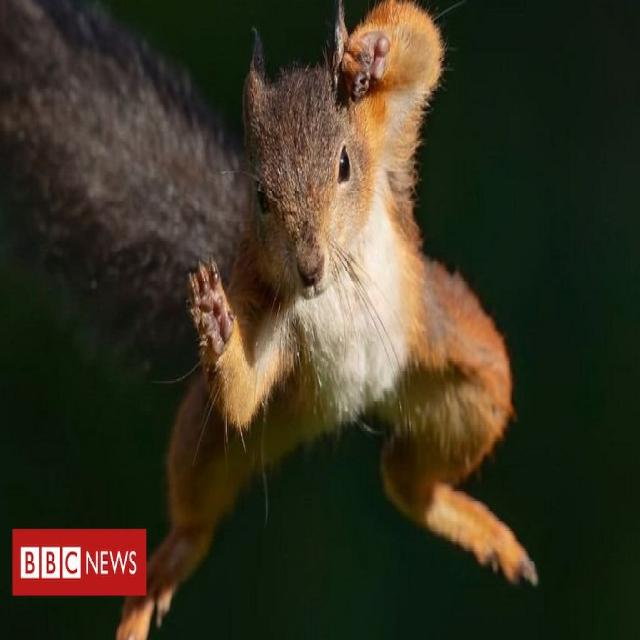Squirrel: (153, 6, 534, 574)
